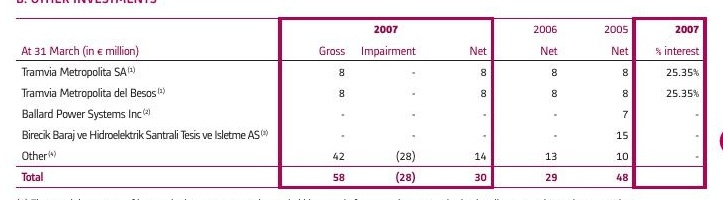table: (0, 0, 723, 200)
